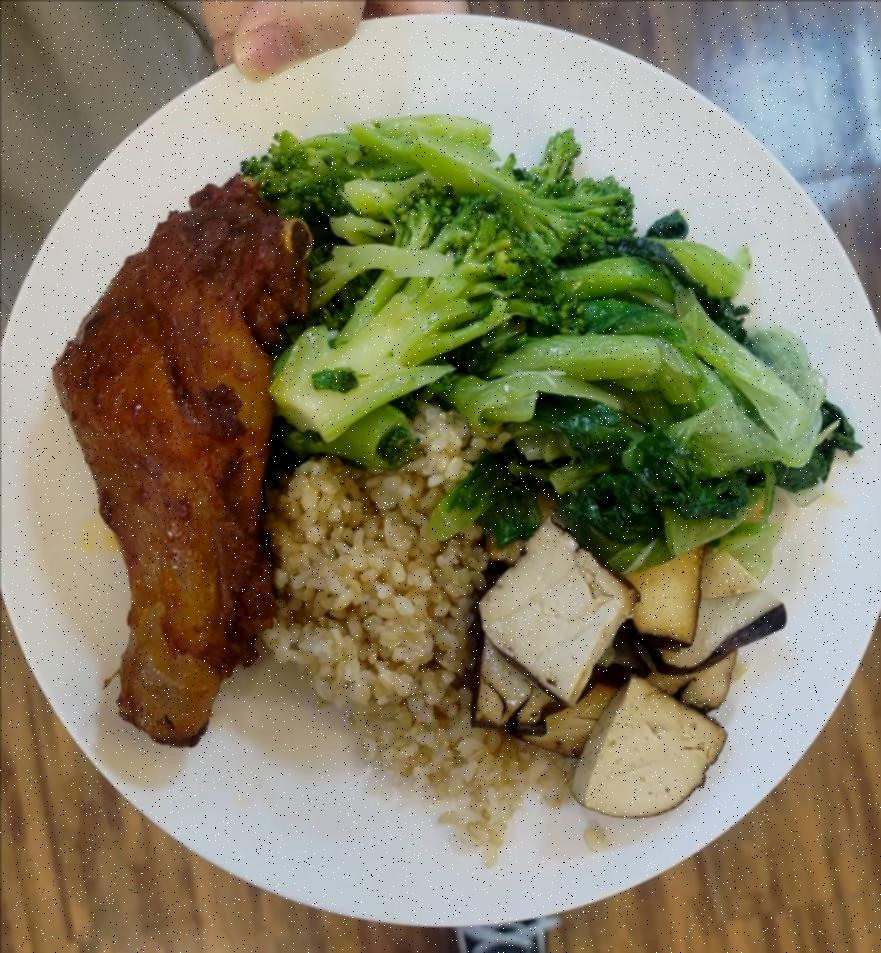big fried chicken leg: (0, 16, 875, 953)
box: (267, 405, 510, 830)
braised fish fillet: (250, 98, 630, 458), (456, 234, 842, 538), (464, 518, 786, 817)
braised pork: (51, 172, 314, 750)
